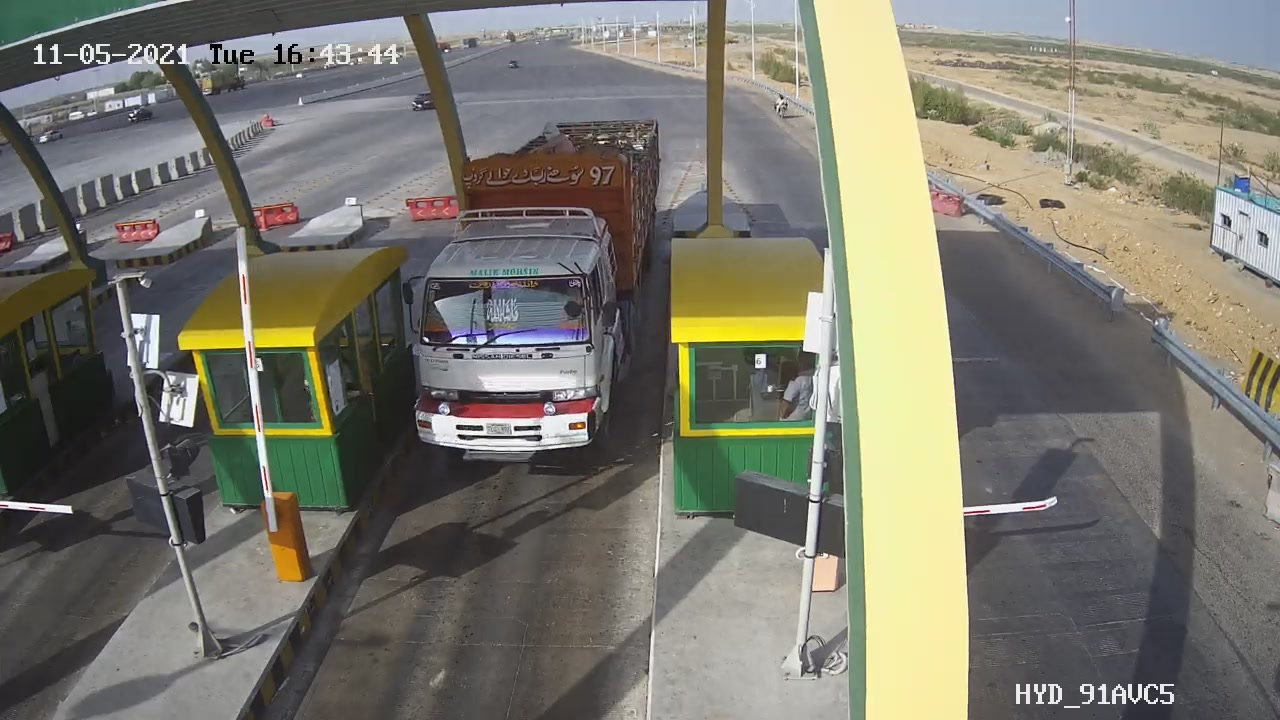F6: (380, 105, 687, 495)
